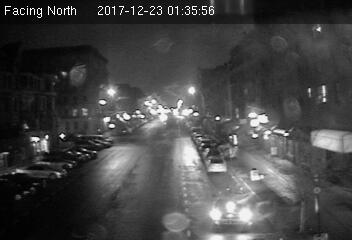car: (204, 186, 258, 231), (205, 156, 226, 172)
